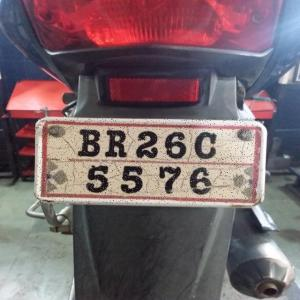Plate: (36, 119, 260, 204)
